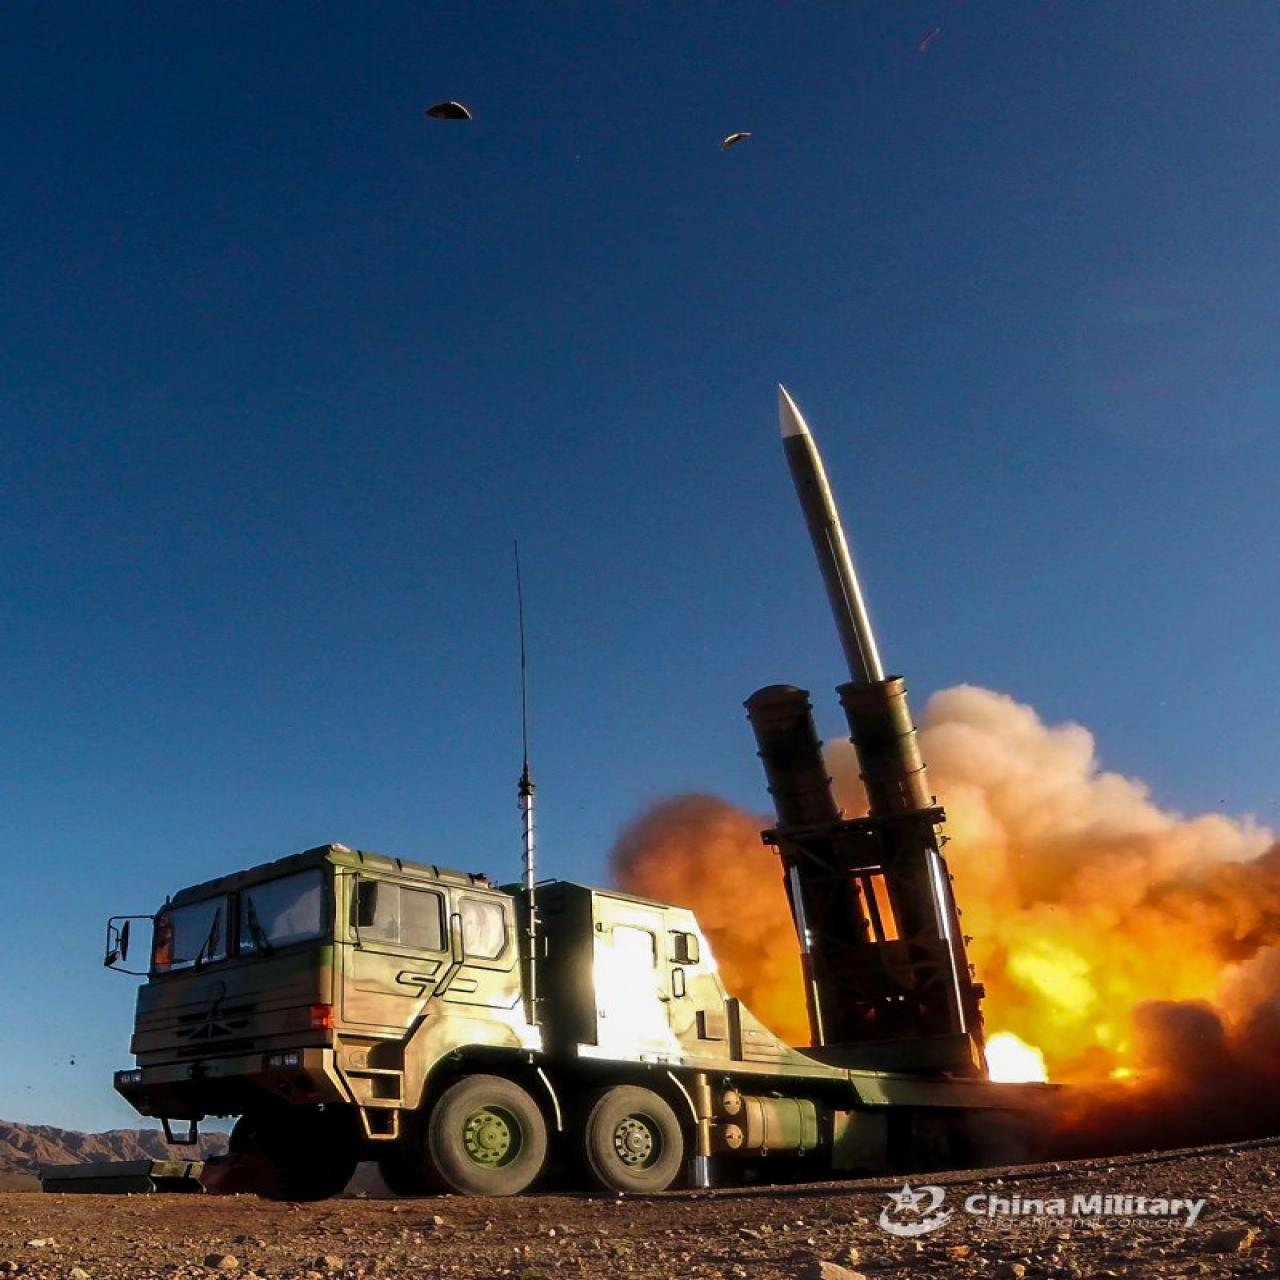MIL_Veh: (129, 679, 1024, 1205)
